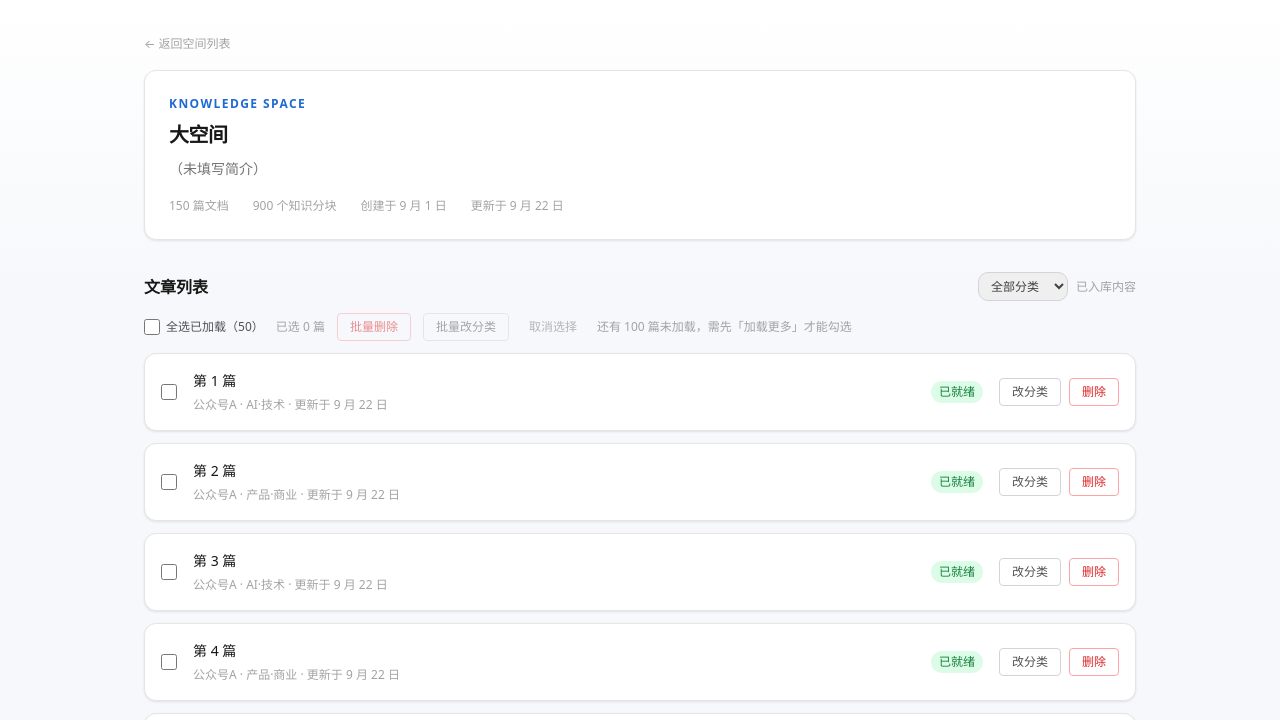
Test case: R0.1.4 大空间分类完整性（F-1 + F-9 原始缺陷形态） › 能选中只存在于第 2 页的分类，offset 归零且返回该分类的行
The image size is (1280, 720).
Select "行业·动态" in the dropdown named "按分类筛选" at (1023, 286), box [978, 272, 1068, 301]
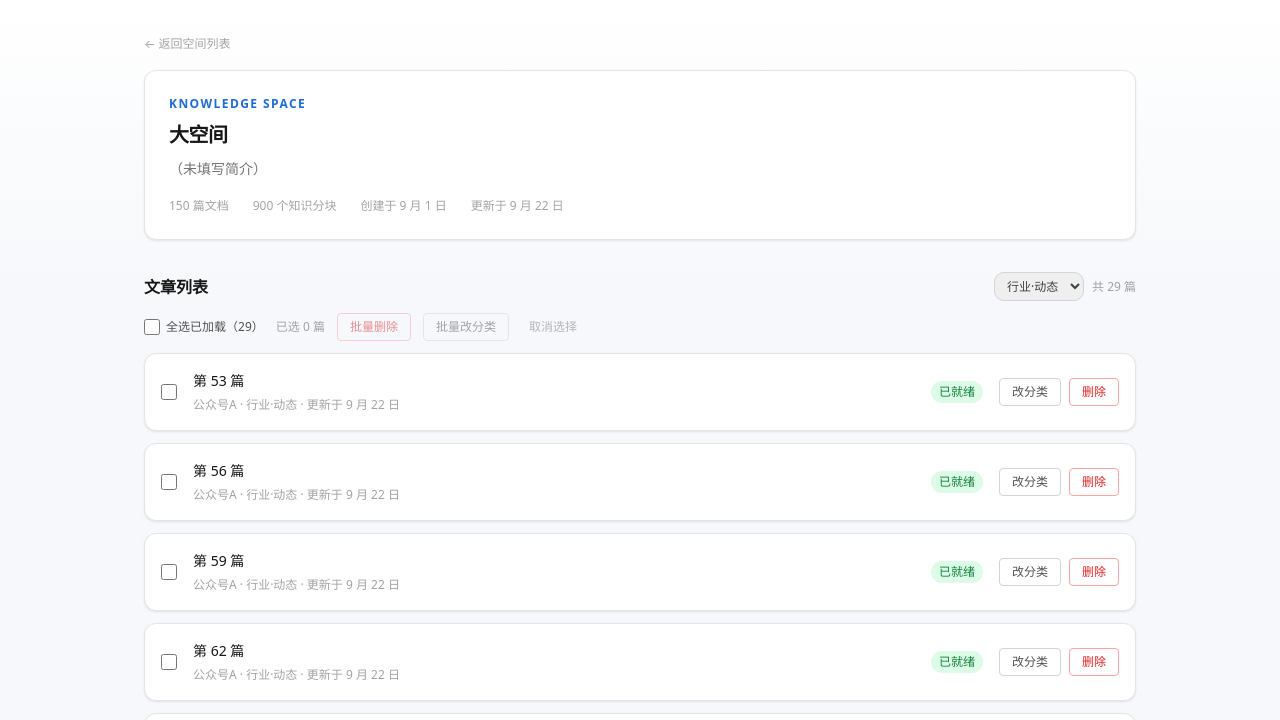
expect the number of list items is 29: met
expect the text "已入库内容" is gone: met
